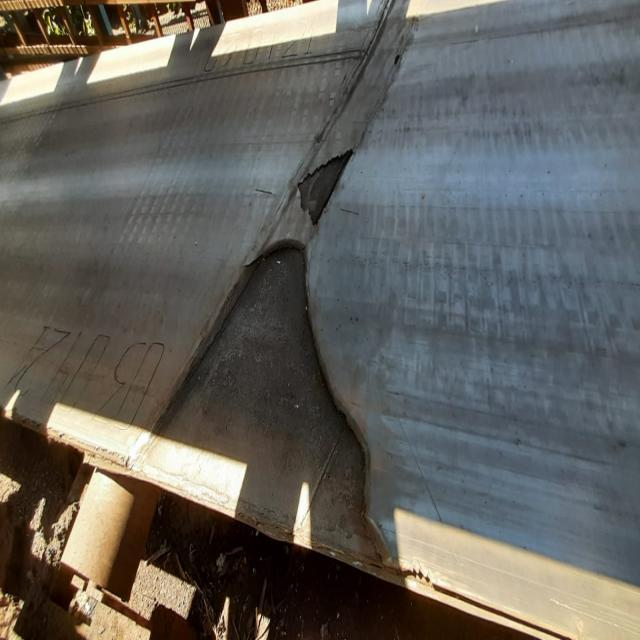Tear: (116, 232, 408, 578), (286, 138, 372, 232)
